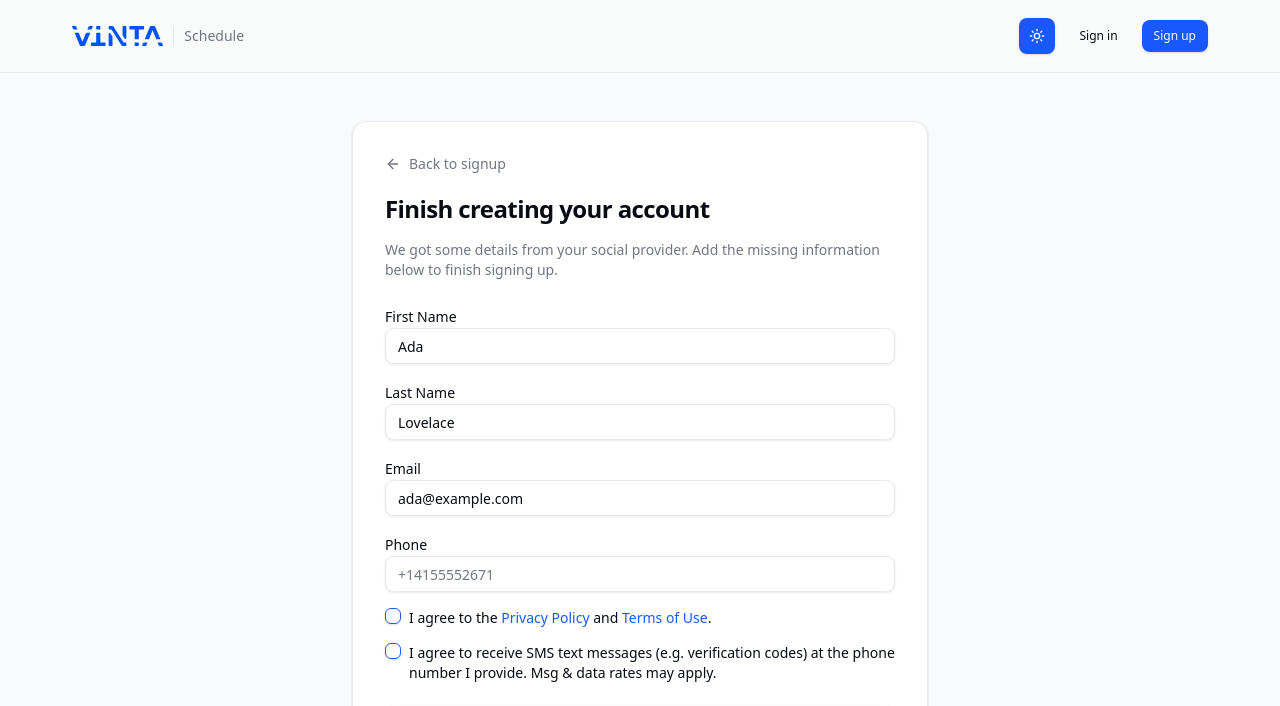
Test: finish-signup page (pending social signup) › rejects a non-E.164 phone number before submitting
This screenshot has width=1280, height=706.
Expected: the field showing "ada@example.com" is shown, 385,480 -> 895,516
Type "555-1234" into the field with placeholder "+14155552671" at (640, 574), box 385,556 -> 895,592
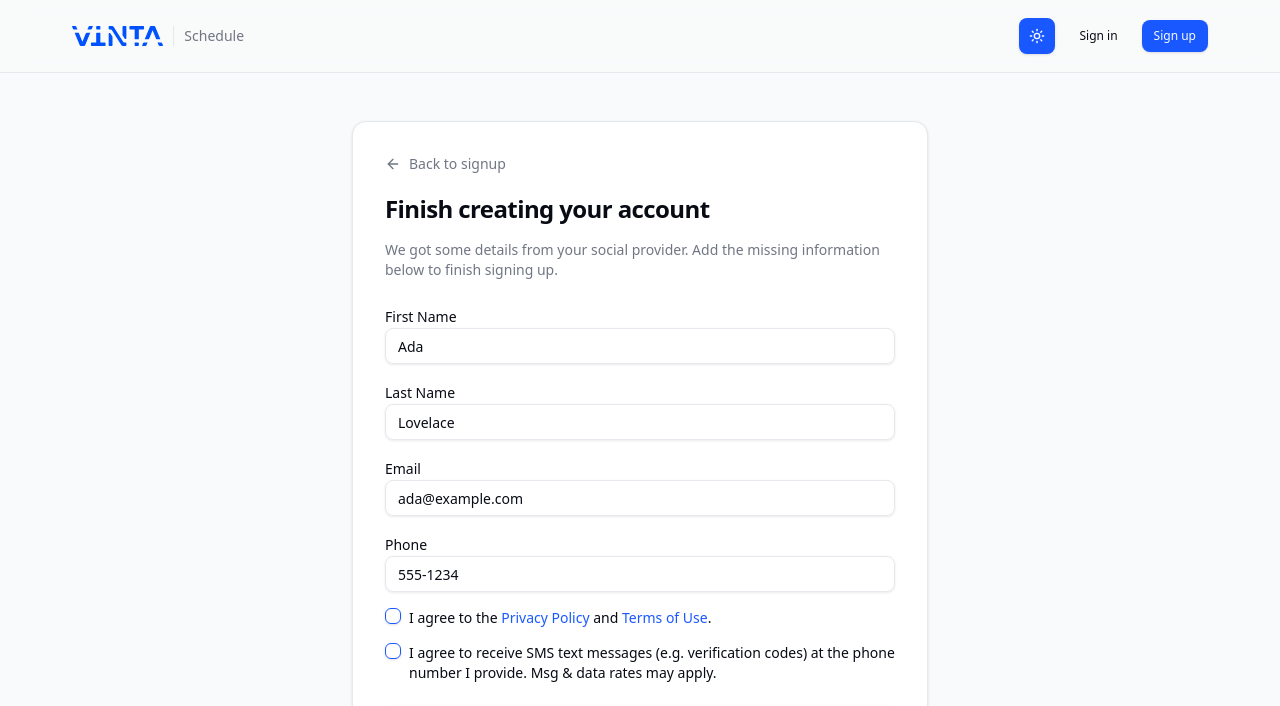
Click the checkbox with test id "accepted-terms-checkbox" at (393, 616), box 385,608 -> 401,624
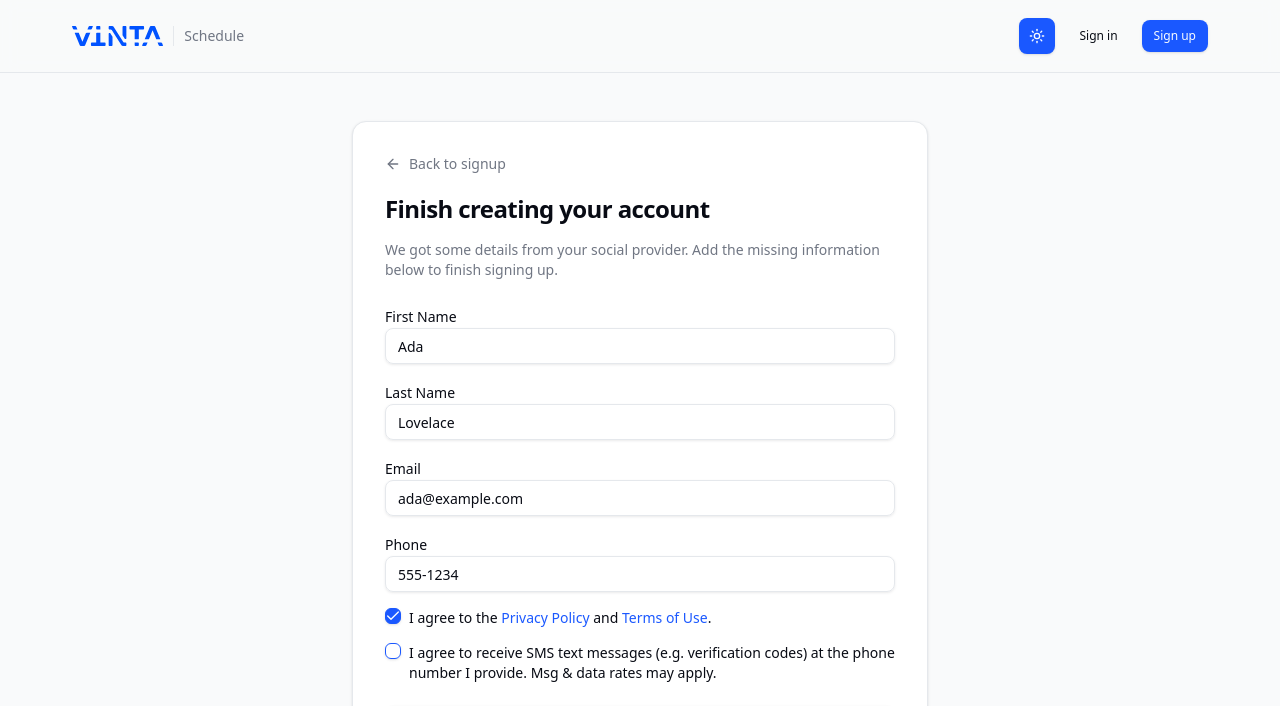
Click the checkbox with test id "accepted-sms-consent-checkbox" at (393, 651), box 385,643 -> 401,659
(page scrolled)
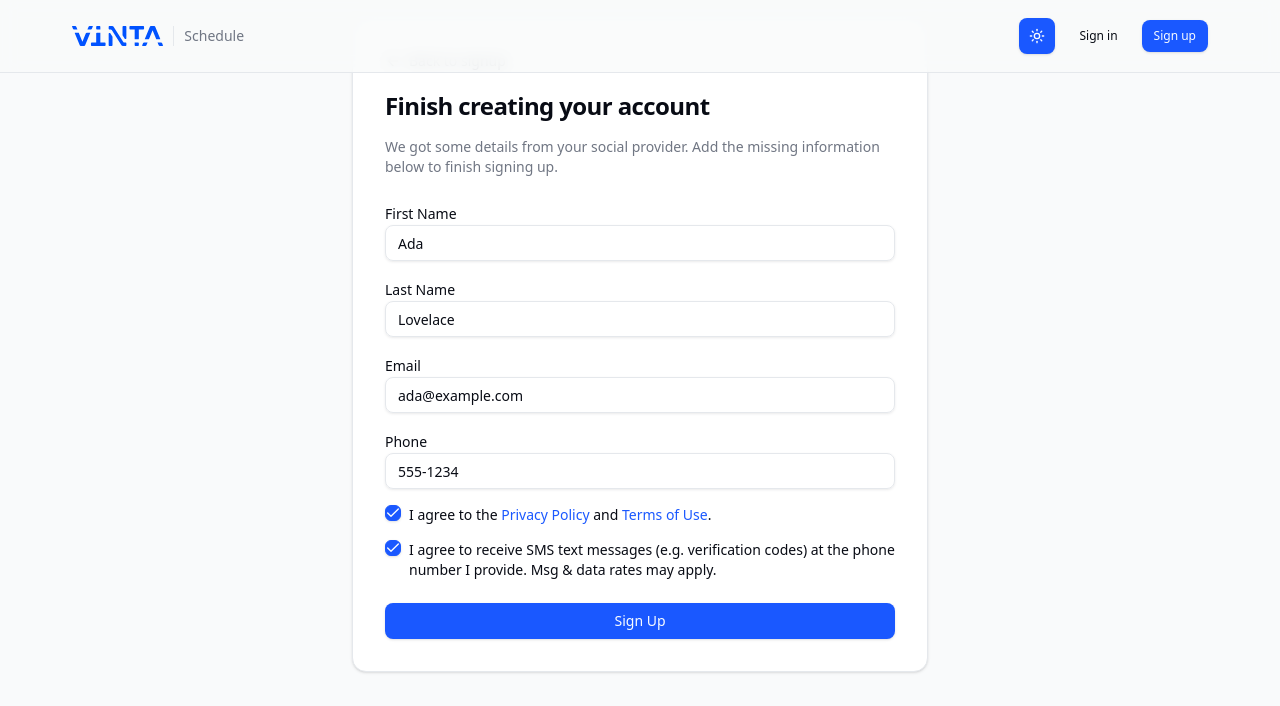
Click the button "Sign Up" at (640, 621), box 385,603 -> 895,639
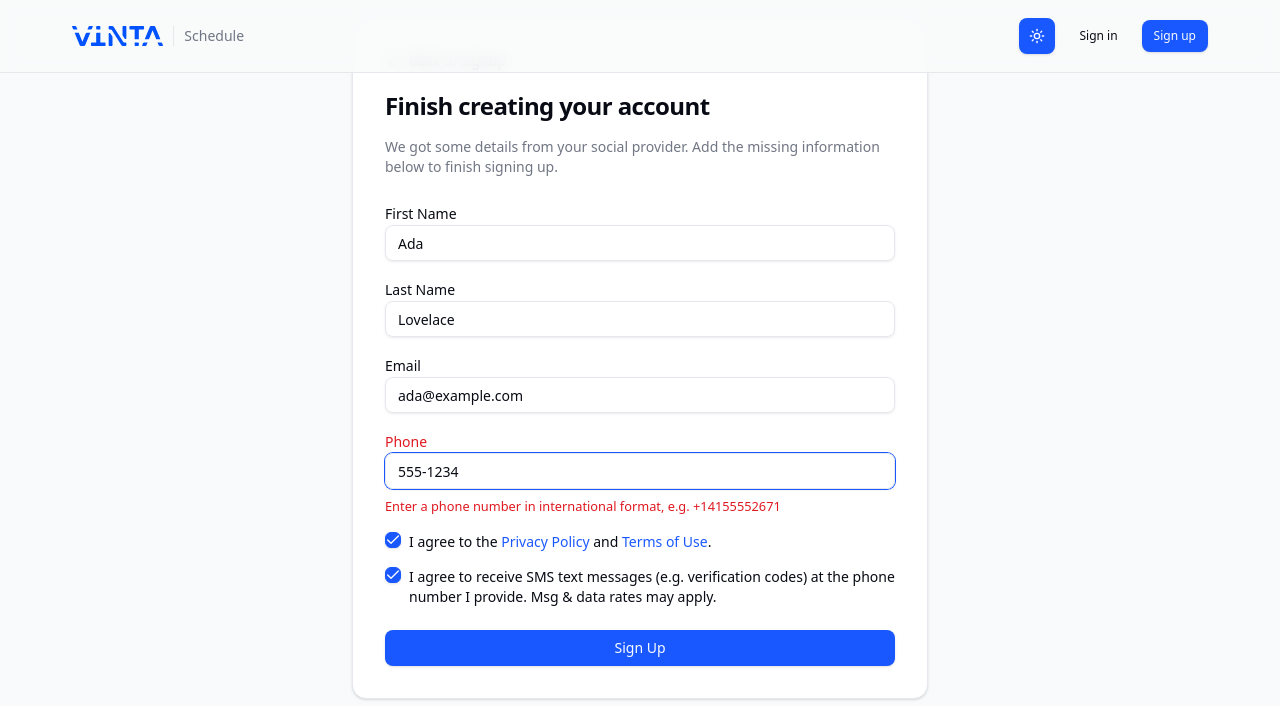
Expected: the text "international format" is shown, 385,497 -> 781,515
